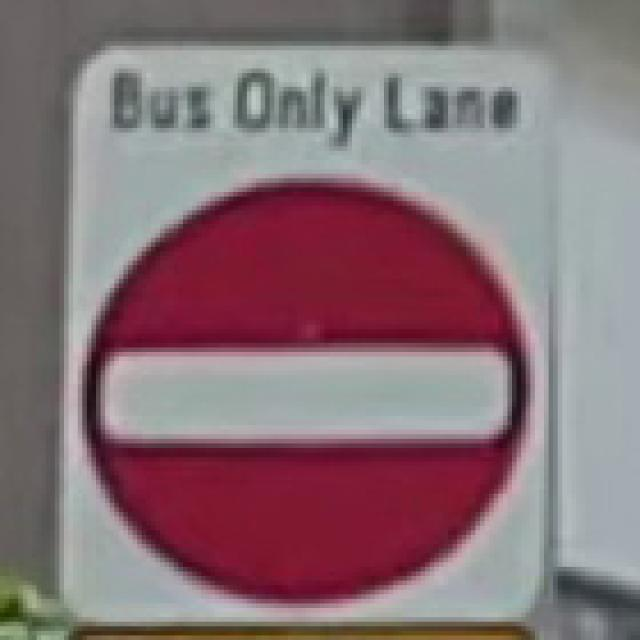noentry_sign: (50, 32, 562, 626)
